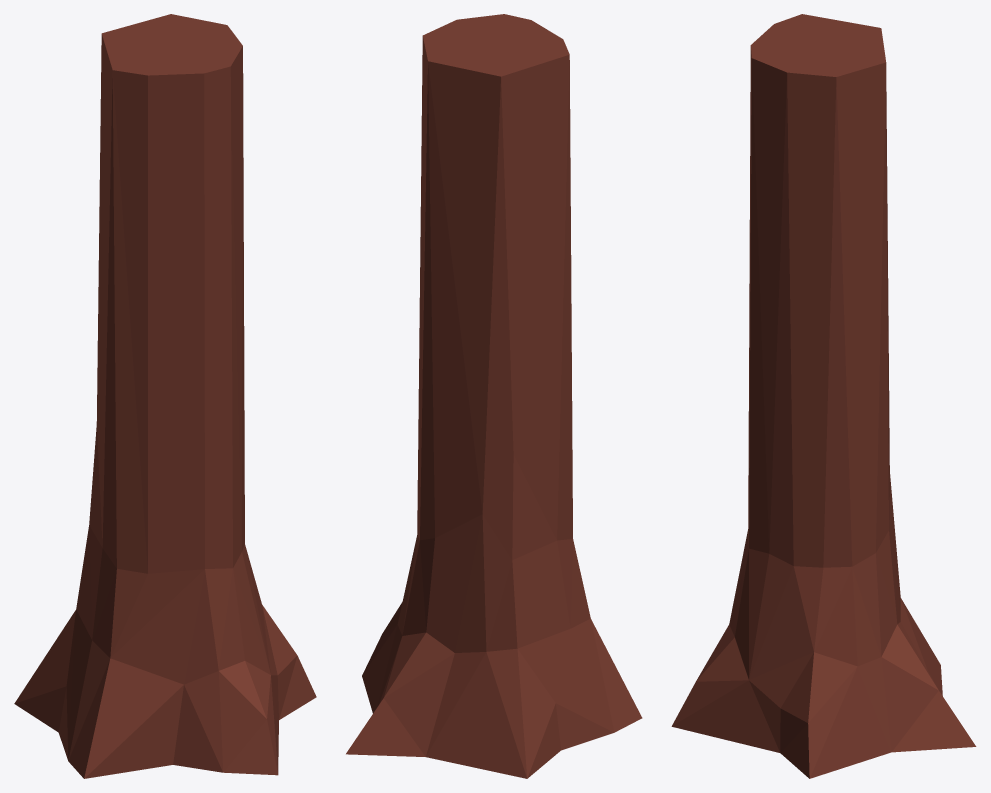
The model's file is trunk.glb.
3 renders of one model, left to right at view 1: azimuth 30°, elevation 25°; view 2: azimuth 150°, elevation 25°; view 3: azimuth 270°, elevation 25°, orthographic. The views are drawn at different scales.
Visible parts, largest first — view 1: trunk; view 2: trunk; view 3: trunk.
Boxes of the visible parts, left/top/right/bottom form: trunk: left=14, top=14, right=316, bottom=778; trunk: left=346, top=14, right=642, bottom=778; trunk: left=671, top=14, right=976, bottom=778.
Size of the model in its own units: 3.97 by 9.96 by 4.13.
